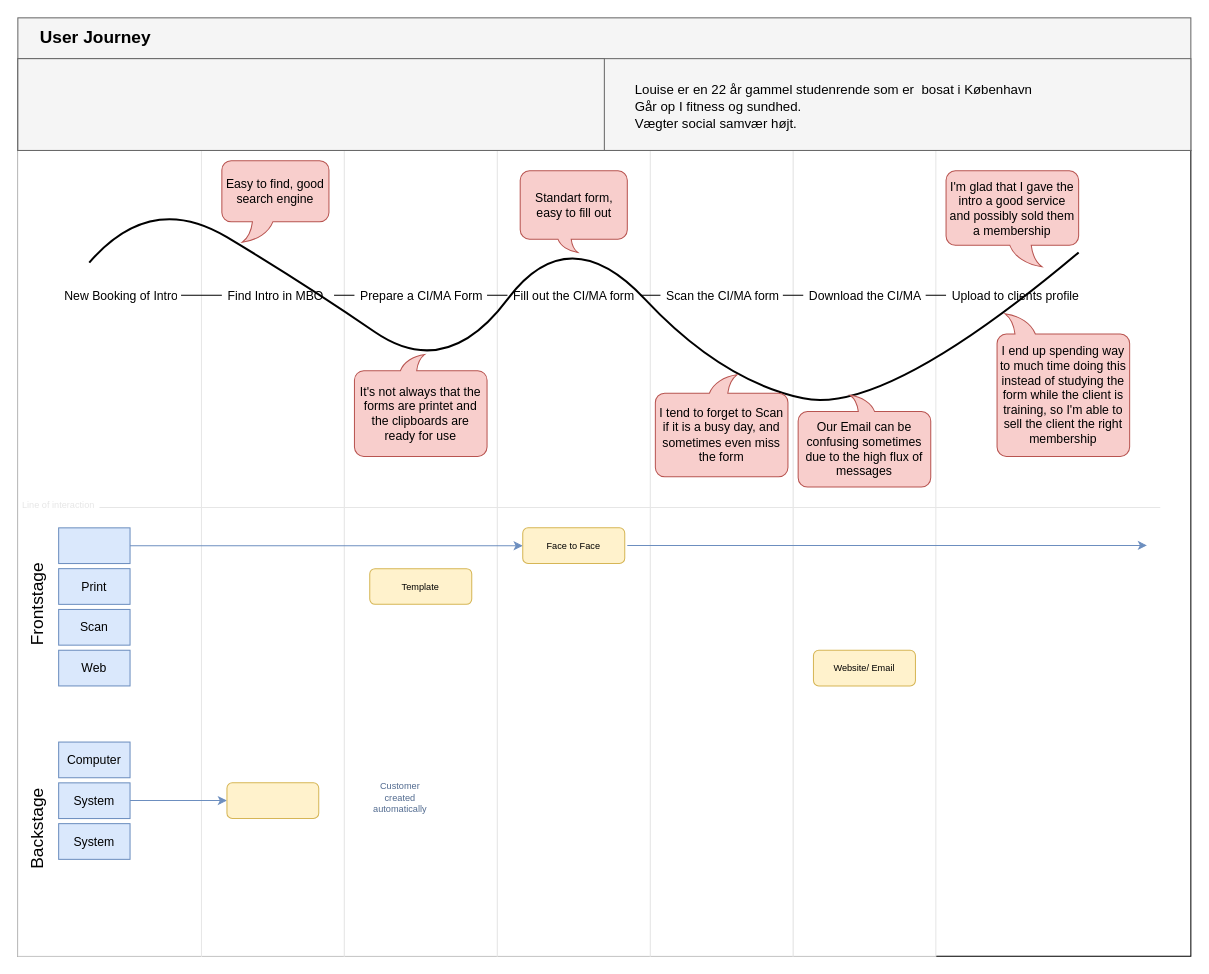
Image size: 1209x974. Some labels were removed from this diagram. The box of each missing label's shape, as (x1, y1, x2, y2) in pixels:
Database: (226, 782, 319, 819)
Name: Louise Role: Sales Associate: (17, 58, 604, 150)
People: (58, 527, 130, 564)
